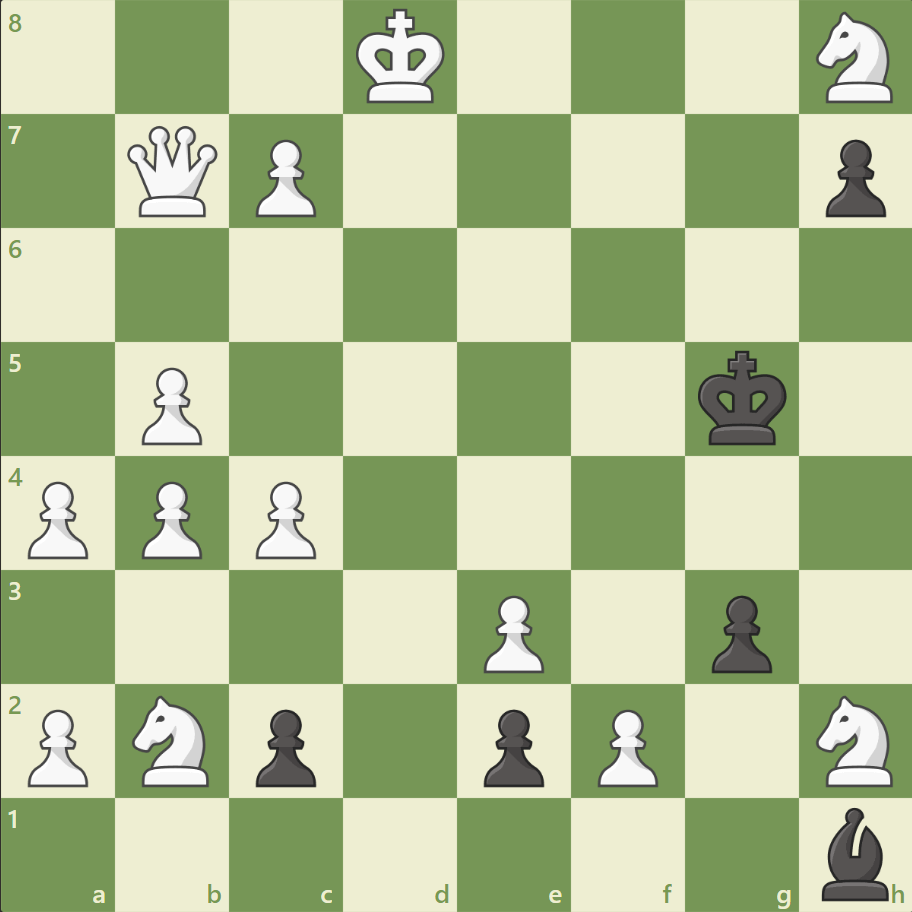K: (351, 4, 451, 112)
N: (124, 688, 222, 791), (806, 7, 903, 110), (806, 688, 903, 791)
P: (247, 132, 322, 223), (133, 359, 208, 450), (20, 473, 95, 564), (133, 473, 208, 564), (247, 473, 322, 564), (474, 586, 549, 677), (20, 700, 95, 791), (588, 700, 662, 791)
Q: (124, 122, 223, 222)
b: (812, 801, 896, 904)
k: (692, 344, 792, 452)
p: (701, 586, 776, 677), (247, 700, 322, 791), (474, 700, 549, 791), (815, 132, 889, 223)
